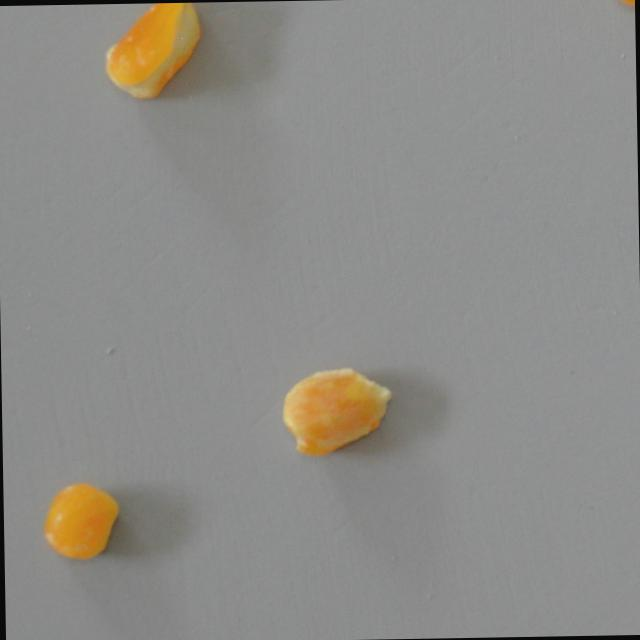dañado: (38, 475, 126, 563)
pelicula: (277, 362, 395, 458), (100, 2, 206, 102)
